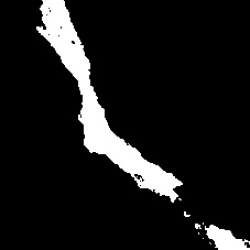crack: (36, 0, 249, 249)
